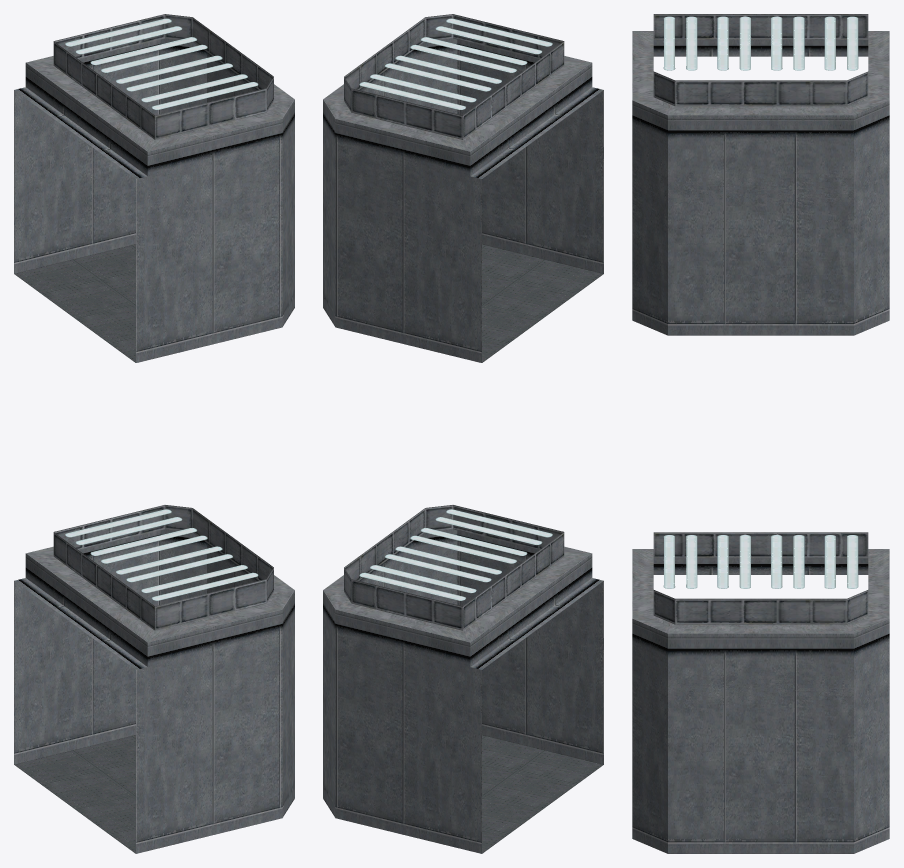
File: poi_all_impl_bunker_warren_s01_r15_elevator15_mesh_r15.fbx
The picture shows the model from 3 angles, left to right: view 1: azimuth 30°, elevation 25°; view 2: azimuth 150°, elevation 25°; view 3: azimuth 270°, elevation 25°; orthographic projection. The views are drawn at different scales.
Visible parts, largest first — view 1: mesh_node; view 2: mesh_node; view 3: mesh_node.
Boxes of the visible parts, x1,y1,x2,y2 form: mesh_node: [14, 14, 294, 853]; mesh_node: [323, 14, 603, 853]; mesh_node: [632, 14, 889, 853].
Bounding box in the file's own units: 3 × 11.8 × 3.6.
